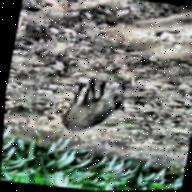boar: (59, 76, 131, 140)
